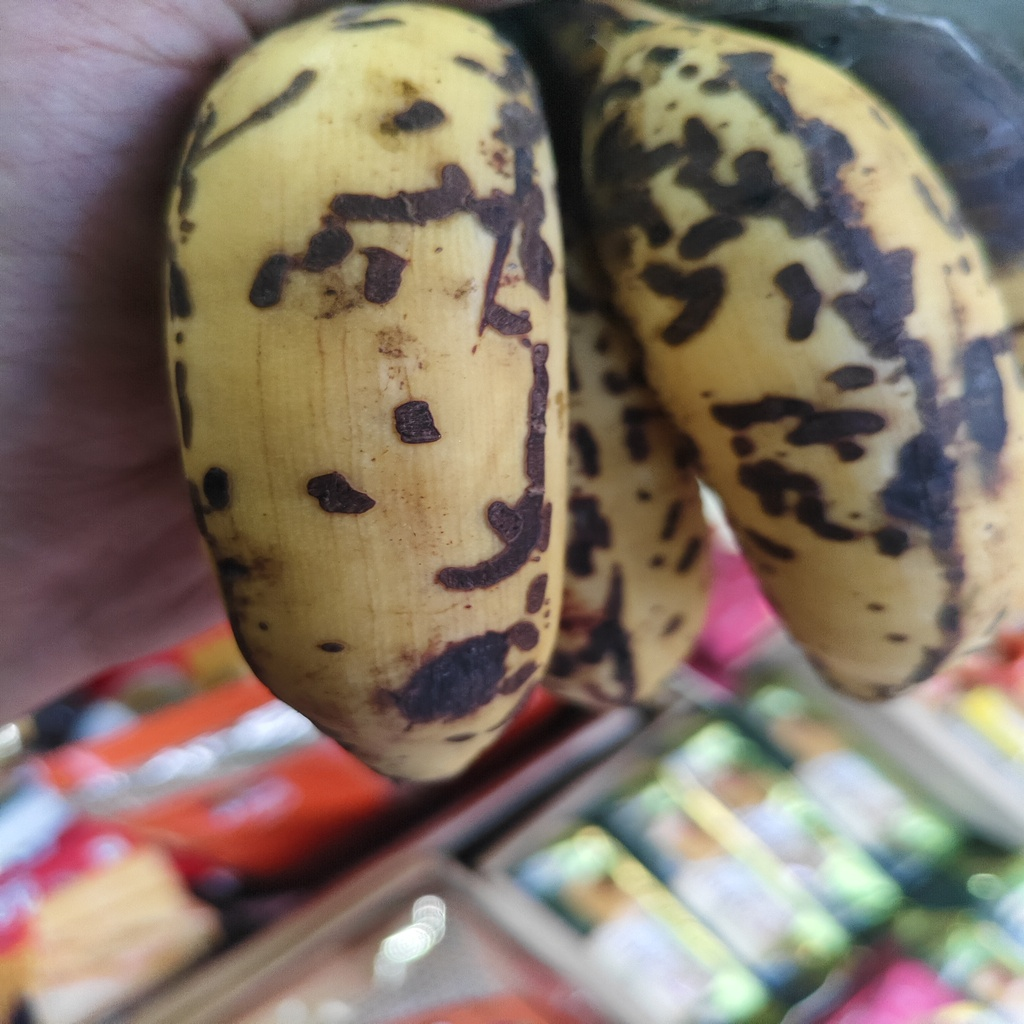unhealthy: (170, 13, 570, 773), (579, 26, 1024, 701)
